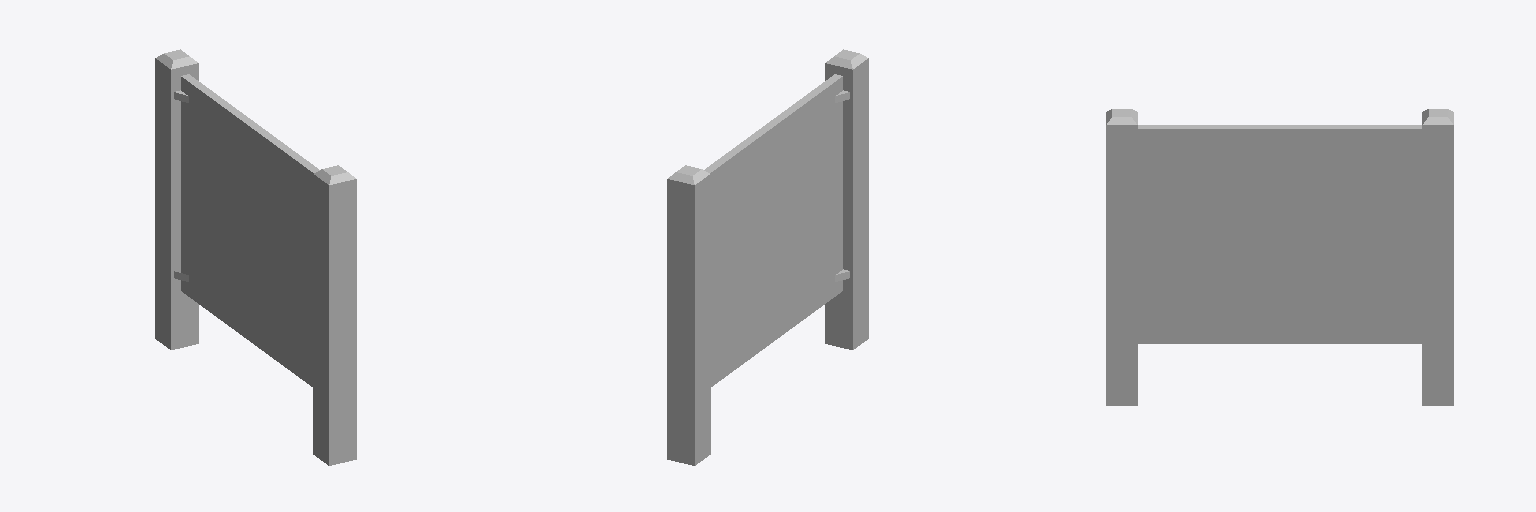
File: InstructionBoard.obj
The picture shows the model from 3 angles: view 1: azimuth 30°, elevation 25°; view 2: azimuth 150°, elevation 25°; view 3: azimuth 270°, elevation 25°; orthographic projection.
Visible parts, largest first — view 1: Cube.002_Cube.003, Cube_Cube.001, Cube.001_Cube.002; view 2: Cube.002_Cube.003, Cube.001_Cube.002, Cube_Cube.001; view 3: Cube.002_Cube.003, Cube_Cube.001, Cube.001_Cube.002.
Part boxes in pixels (bbox=[...]): Cube.002_Cube.003: bbox=[174, 74, 319, 386]; Cube_Cube.001: bbox=[313, 165, 356, 465]; Cube.001_Cube.002: bbox=[155, 49, 198, 349]; Cube.002_Cube.003: bbox=[704, 74, 849, 386]; Cube.001_Cube.002: bbox=[667, 165, 710, 465]; Cube_Cube.001: bbox=[825, 49, 868, 349]; Cube.002_Cube.003: bbox=[1138, 125, 1421, 343]; Cube_Cube.001: bbox=[1106, 109, 1137, 405]; Cube.001_Cube.002: bbox=[1422, 109, 1453, 405].
Bounding box in the file's own units: 0.2 × 2 × 2.2.